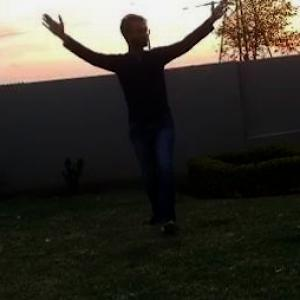takeoff: (24, 0, 226, 228)
